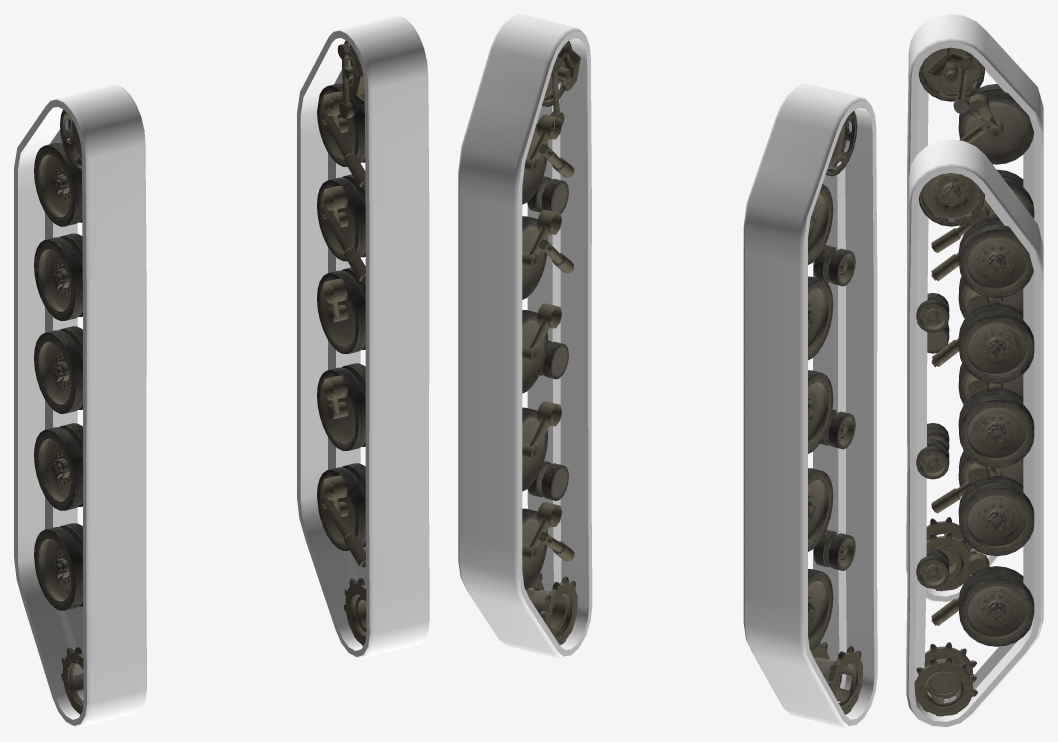
Rendered from Chassis.glb.
3 views of the same model, side by side, from view 1: azimuth 30°, elevation 25°; view 2: azimuth 150°, elevation 25°; view 3: azimuth 270°, elevation 25° (orthographic). The views are drawn at different scales.
Visible parts, largest first — view 1: set_0_group_0, set_1_group_0, set_3_group_0, set_2_group_0; view 2: set_0_group_0, set_1_group_0, set_3_group_0, set_2_group_0; view 3: set_3_group_0, set_1_group_0, set_2_group_0, set_0_group_0.
Part boxes in pixels (x1,y1,x2,y2): set_0_group_0: (14, 83, 146, 727); set_1_group_0: (297, 14, 429, 658); set_3_group_0: (317, 40, 366, 645); set_2_group_0: (34, 109, 83, 714); set_0_group_0: (743, 83, 877, 727); set_1_group_0: (458, 14, 592, 658); set_3_group_0: (522, 41, 580, 644); set_2_group_0: (808, 111, 862, 714); set_3_group_0: (914, 173, 1034, 716); set_1_group_0: (906, 139, 1043, 727); set_2_group_0: (918, 47, 1034, 591); set_0_group_0: (906, 14, 1043, 602).
Size of the model in its own units: 3.06 by 5.32 by 1.17.
Materials: 4 (2 with a texture image).
